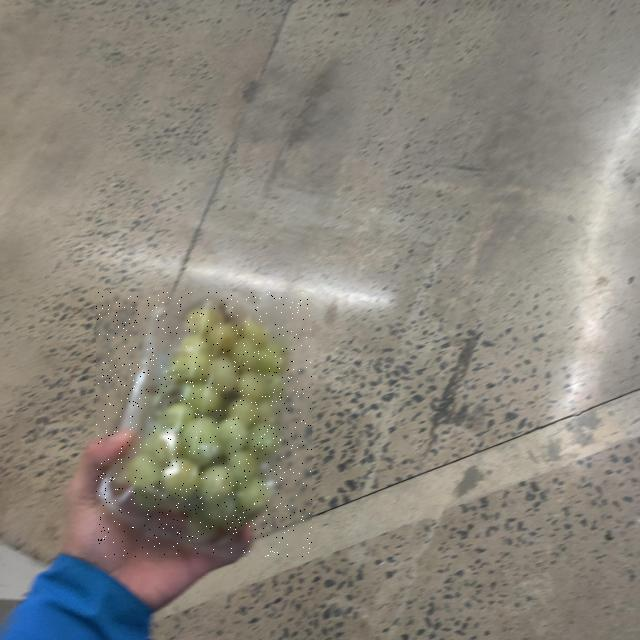Grapes: (97, 292, 313, 557)
